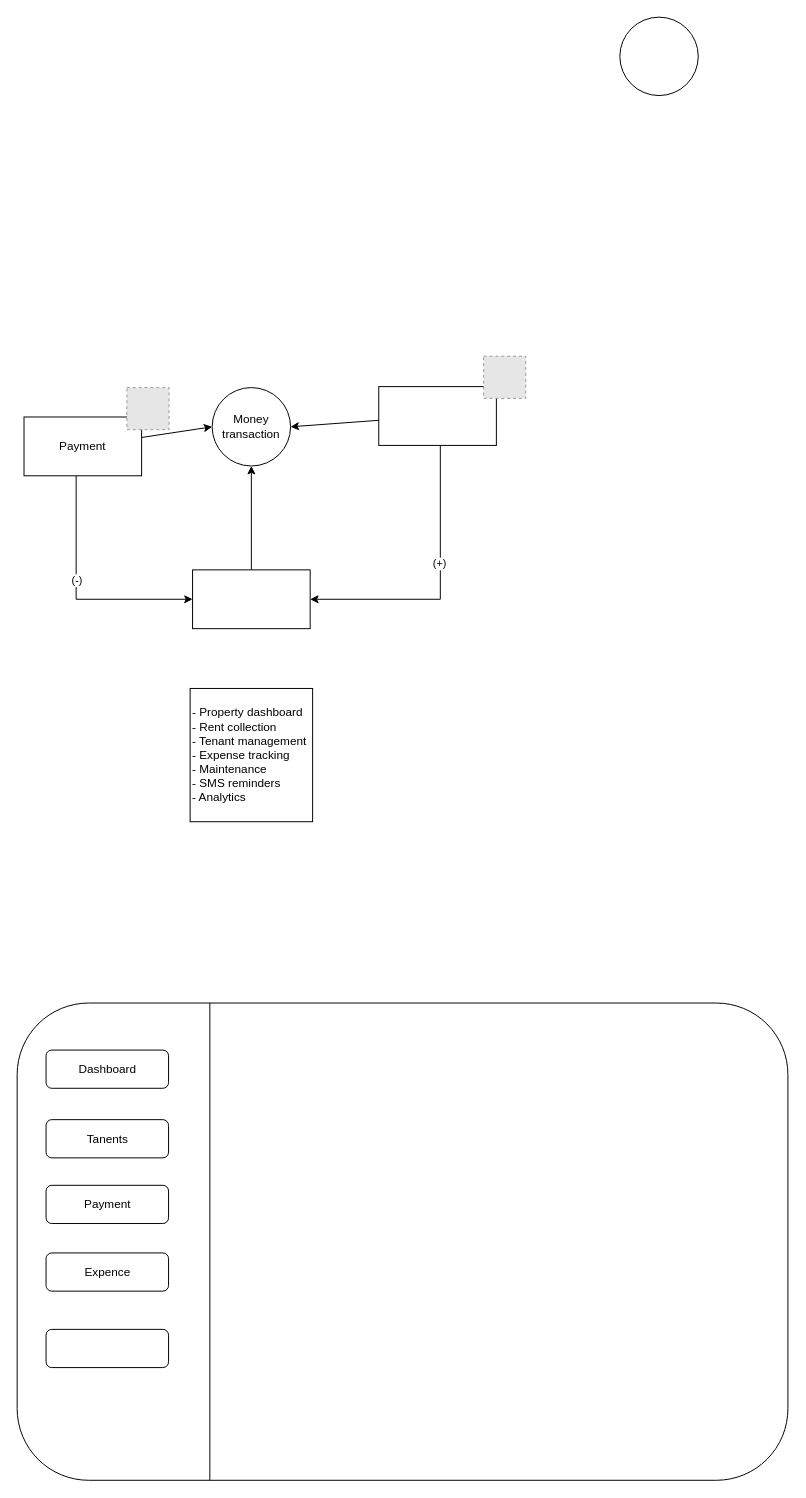
Image size: 806x1498. Some labels were removed from this diagram. Grey dashed boxes stand in for pictures. The centre of each missing label's shape, as x and y in pixels:
"Info" goes at [658,56].
"Previous (Due)" goes at [251,599].
"Rant (monthly)" goes at [437,415].
